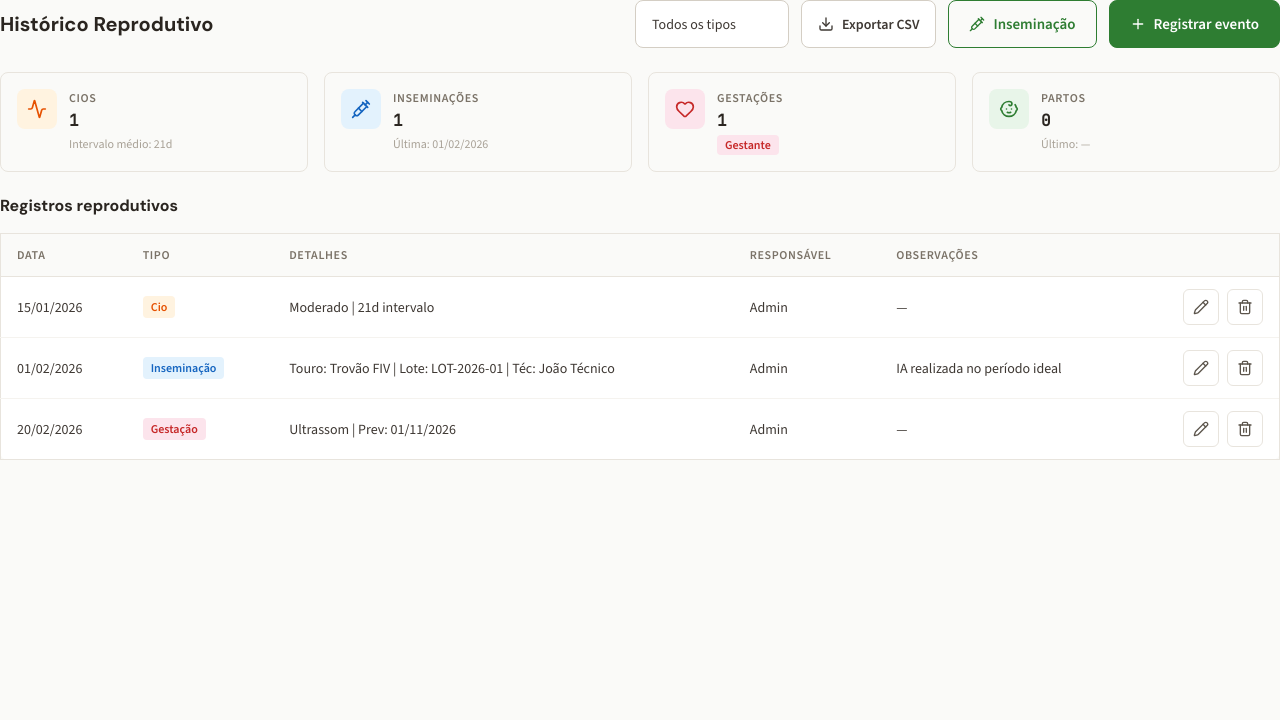
Test case: ReproductiveTab › opens edit modal when clicking edit on a record
What coordinates should you click on to do the following:
click the button named "Editar registro"
I would click on:
 (1201, 307)
Its box is [1183,289,1219,325].
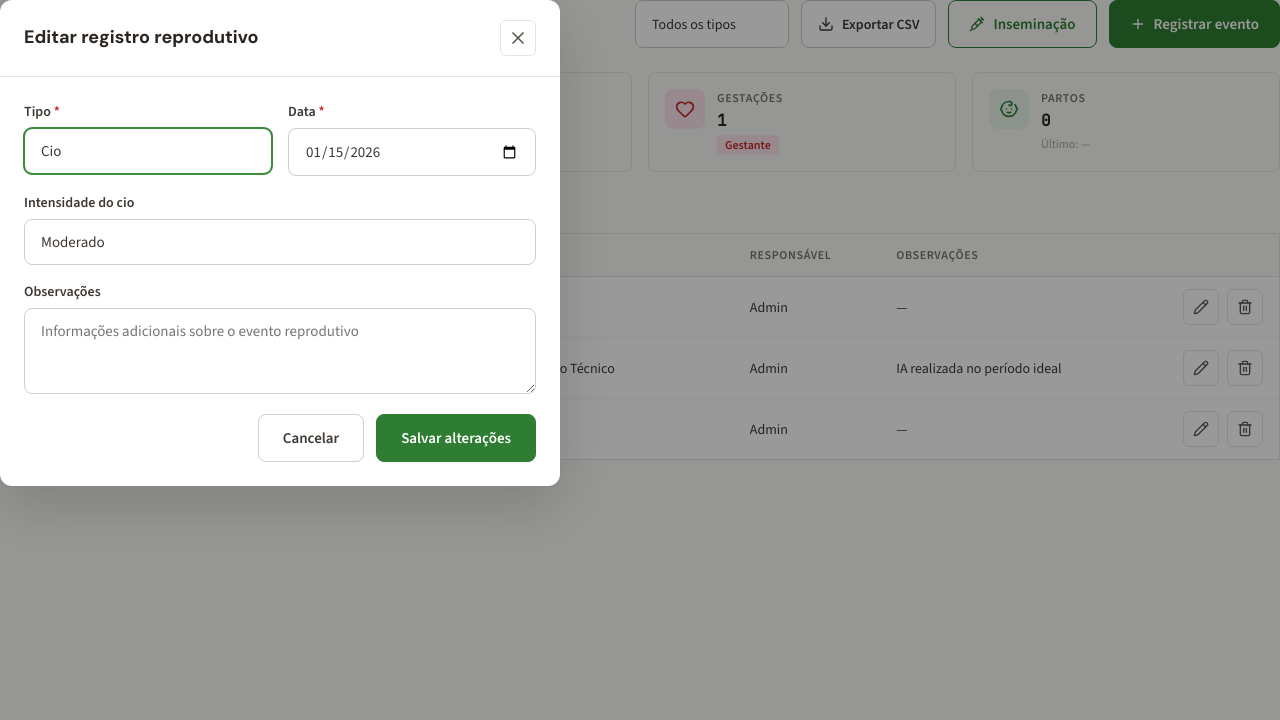
expect the heading "Editar registro reprodutivo" is shown: met, box [24,26,258,50]
